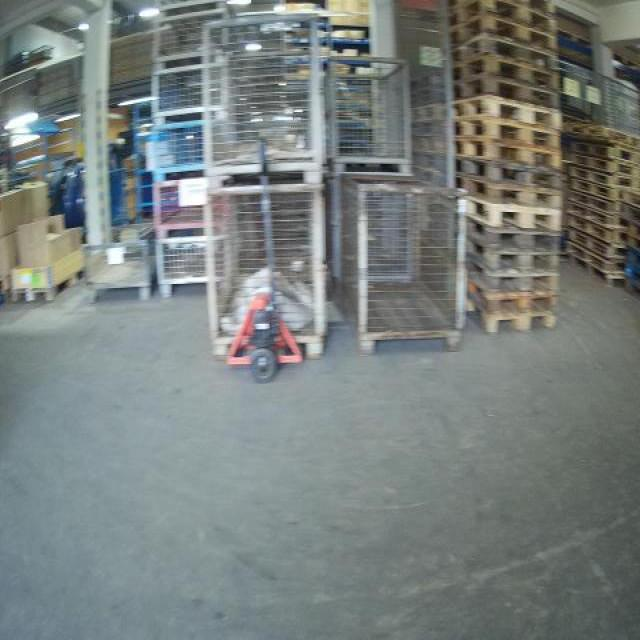pallet: (466, 239, 559, 275), (11, 263, 87, 307), (453, 59, 562, 89), (450, 22, 559, 52), (450, 39, 557, 68), (456, 157, 559, 187), (469, 256, 561, 289), (466, 195, 560, 227), (470, 218, 559, 251), (465, 304, 557, 335), (453, 4, 554, 32), (464, 284, 558, 314), (457, 101, 559, 127), (456, 122, 561, 147), (456, 143, 564, 167), (453, 83, 561, 106), (570, 152, 630, 190), (568, 255, 627, 293), (567, 236, 625, 271), (463, 182, 559, 203), (571, 178, 625, 210), (570, 215, 630, 240), (569, 199, 628, 223), (574, 129, 636, 147), (572, 144, 635, 160)
pallet_truck: (212, 128, 310, 385)
stillage: (200, 7, 331, 183), (205, 181, 330, 363), (333, 179, 463, 353), (330, 55, 413, 175), (158, 231, 236, 302), (148, 62, 232, 124), (150, 174, 231, 237), (151, 122, 230, 181), (85, 240, 151, 302), (150, 14, 231, 61), (151, 0, 232, 14)
